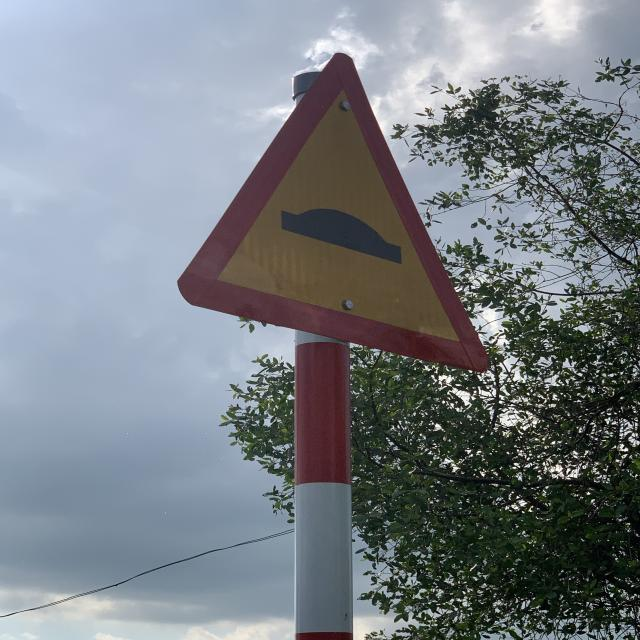Duong_Cong_Ben_Phai: (177, 49, 490, 374)
